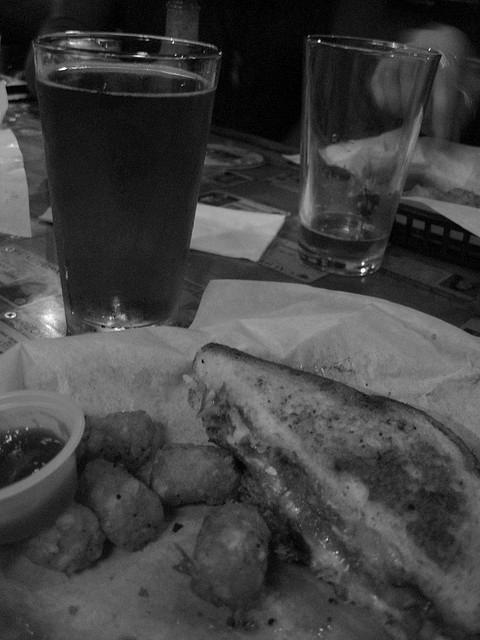glass: (34, 33, 210, 332), (298, 36, 424, 276)
